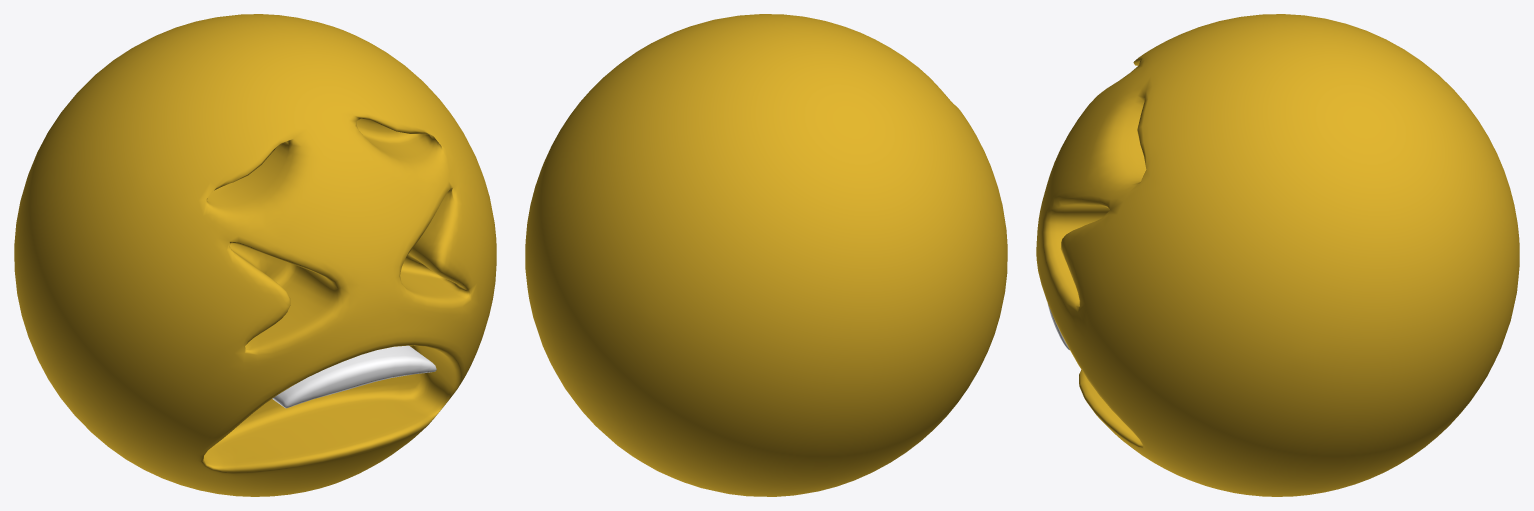
The model's file is tired.glb.
The picture shows the model from 3 angles, left to right: view 1: azimuth 30°, elevation 25°; view 2: azimuth 150°, elevation 25°; view 3: azimuth 270°, elevation 25°; orthographic projection.
Parts seen in each view (by area): view 1: Group3677, Group46811; view 2: Group3677; view 3: Group3677.
Boxes of the visible parts, bbox=[...] form: Group3677: bbox=[14, 14, 496, 496]; Group46811: bbox=[272, 345, 436, 408]; Group3677: bbox=[525, 14, 1007, 496]; Group3677: bbox=[1036, 14, 1519, 496].
Bounding box in the file's own units: 0.5951 × 0.5955 × 0.5956.
